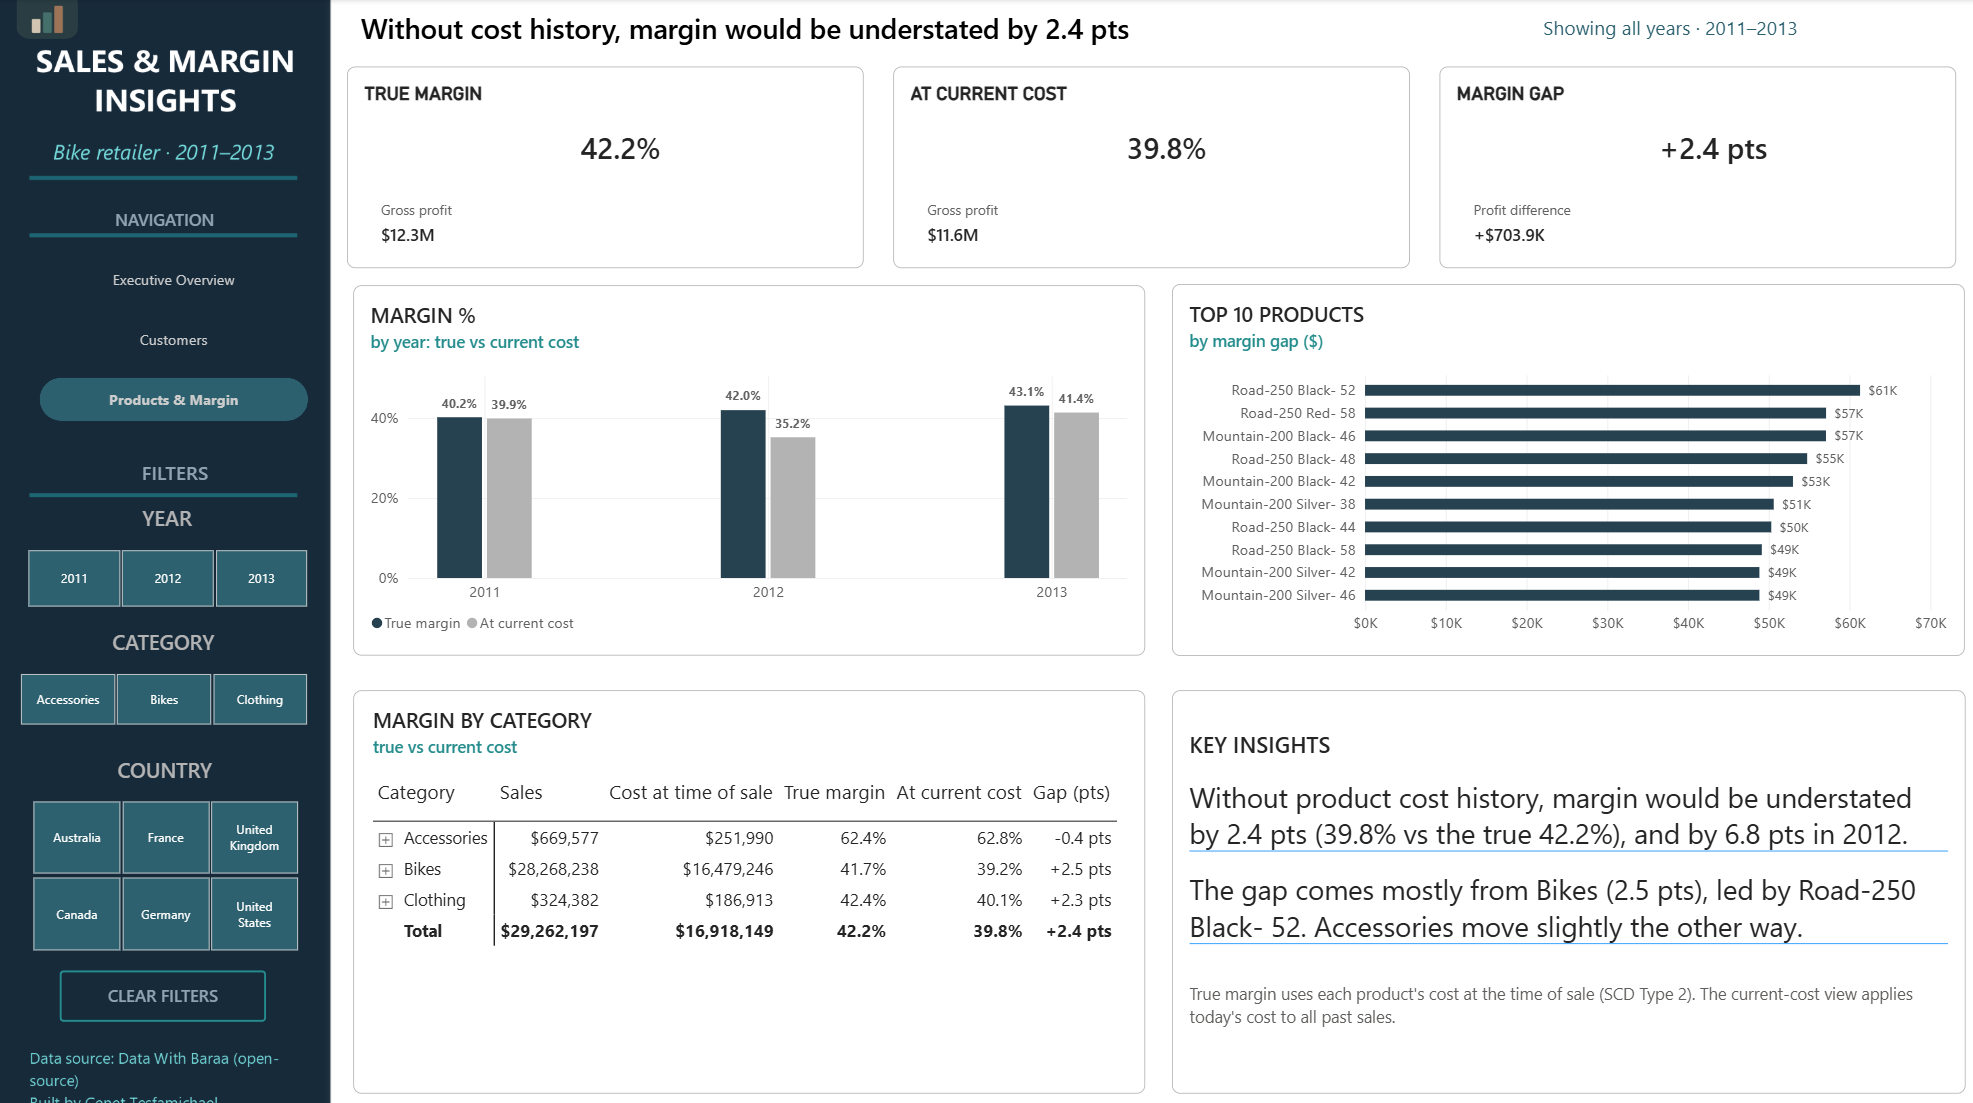

This screenshot's page, from the dashboard's own definition file:
{"tool":"powerbi","page":{"name":"Products & Margin","canvas":[1920,1080],"ordinal":2},"visuals":[{"type":"clusteredColumnChart","title":"MARGIN %","fields":{"Category":["DateTable.Year"],"Y":["_Measures.Gross Margin %","_Measures.Margin % at Current Cost"]},"box":[344.9,277,766.3,358.5],"z":0},{"type":"cardVisual","title":"AT CURRENT COST","fields":{"Data":["_Measures.Margin % (Current Cost)"]},"box":[867.5,65,500,195],"z":1000},{"type":"pivotTable","title":"MARGIN BY CATEGORY","fields":{"Rows":["dim_products.category","dim_products.subcategory","dim_products.product_name"],"Values":["_Measures.Total Sales","_Measures.Historical Cost","_Measures.Gross Margin %","_Measures.Margin % (Current Cost)","_Measures.Gap (pts)"]},"box":[344.9,669.5,766.3,390.8],"z":2000},{"type":"cardVisual","title":"TRUE MARGIN","fields":{"Data":["_Measures.Gross Margin %"]},"box":[339,65,500,195],"z":3000},{"type":"clusteredBarChart","title":"TOP 10 PRODUCTS","fields":{"Category":["dim_products.product_name"],"Y":["_Measures.Cost Misstatement $"]},"box":[1137,275.5,767,360],"z":4000},{"type":"cardVisual","title":"MARGIN GAP","fields":{"Data":["_Measures.Margin Misstatement (pts)"]},"box":[1396,65,500,195],"z":5000},{"type":"textbox","box":[1136.7,669.5,768,390.8],"z":6000},{"type":"slicer","title":"YEAR","fields":{"Values":["DateTable.Year"]},"box":[9.8,489.1,309.7,100.9],"z":7000},{"type":"pageNavigator","box":[40.6,250.9,260,160],"z":8000},{"type":"slicer","title":"CATEGORY","fields":{"Values":["dim_products.category"]},"box":[2.8,608.2,316.7,95.3],"z":9000},{"type":"textbox","box":[41.8,435.7,260,40],"z":10000},{"type":"slicer","title":"COUNTRY","fields":{"Values":["dim_customers.Country"]},"box":[14,731.6,295.7,190.6],"z":11000},{"type":"textbox","box":[32.5,202.5,258.8,28.8],"z":12000},{"type":"actionButton","box":[60.7,939.8,200,50],"z":13000},{"type":"actionButton","box":[1367.8,3,502.9,51],"z":14000},{"type":"actionButton","box":[339.8,3,961.7,51],"z":15000}]}

Visuals, with their boxes in screenshot pixels (x1, y1, x2, y2), scaled from the page's 1920x1080 canvas onto the 1973x1103 screenshot:
"MARGIN %" clusteredColumnChart: (354,283,1142,649)
"AT CURRENT COST" cardVisual: (891,66,1405,266)
"MARGIN BY CATEGORY" pivotTable: (354,684,1142,1083)
"TRUE MARGIN" cardVisual: (348,66,862,266)
"TOP 10 PRODUCTS" clusteredBarChart: (1168,281,1957,649)
"MARGIN GAP" cardVisual: (1435,66,1948,266)
textbox: (1168,684,1957,1083)
"YEAR" slicer: (10,500,328,603)
pageNavigator: (42,256,309,420)
"CATEGORY" slicer: (3,621,328,718)
textbox: (43,445,310,486)
"COUNTRY" slicer: (14,747,318,942)
textbox: (33,207,299,236)
actionButton: (62,960,268,1011)
actionButton: (1406,3,1922,55)
actionButton: (349,3,1337,55)
